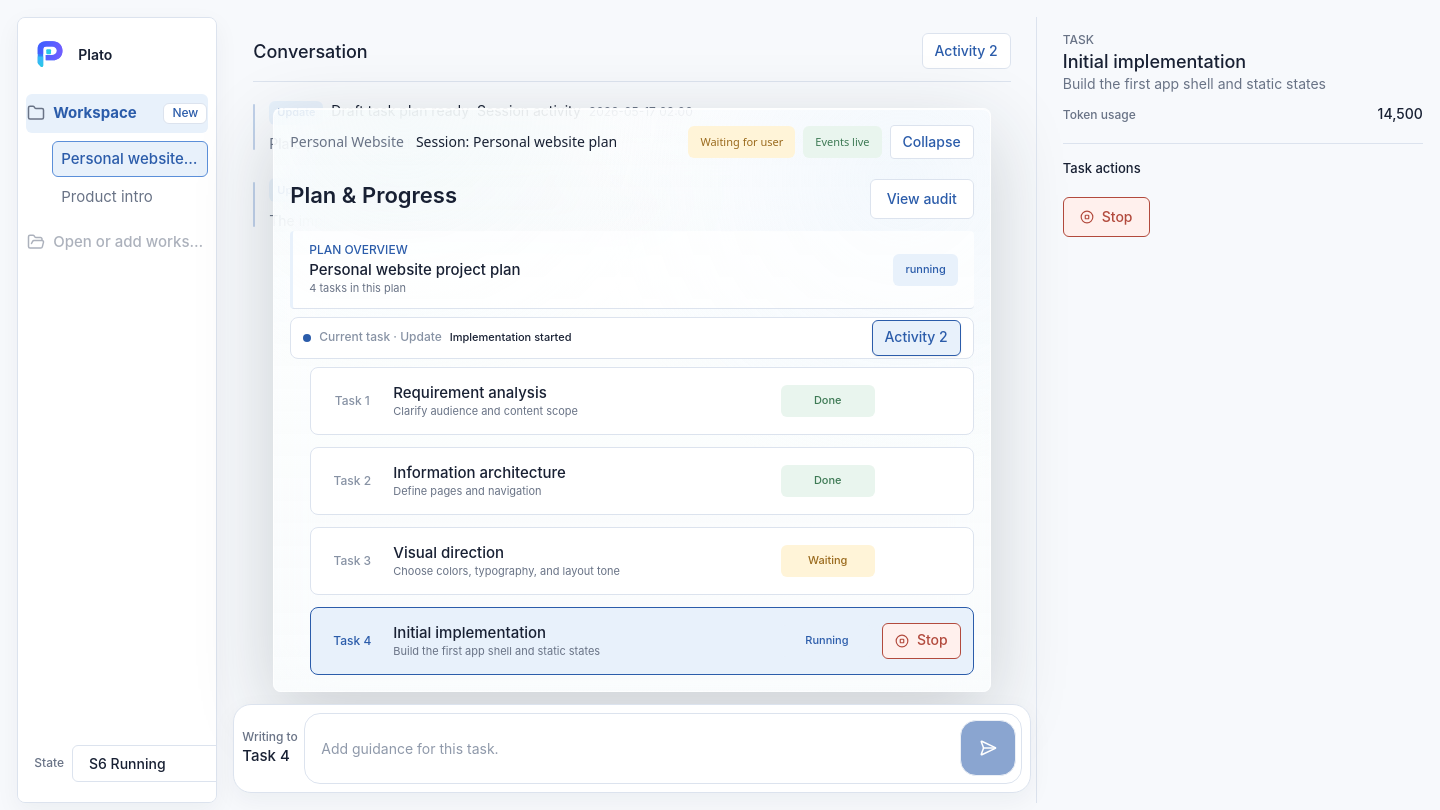
Test: App › projects the latest activity by the selected TaskNode
Expected: the text "Implementation started" next to "Task activity" is shown, x1=331 y1=180 x2=484 y2=197
Click the button "Visual direction": click(352, 560) x1=323 y1=540 x2=875 y2=582
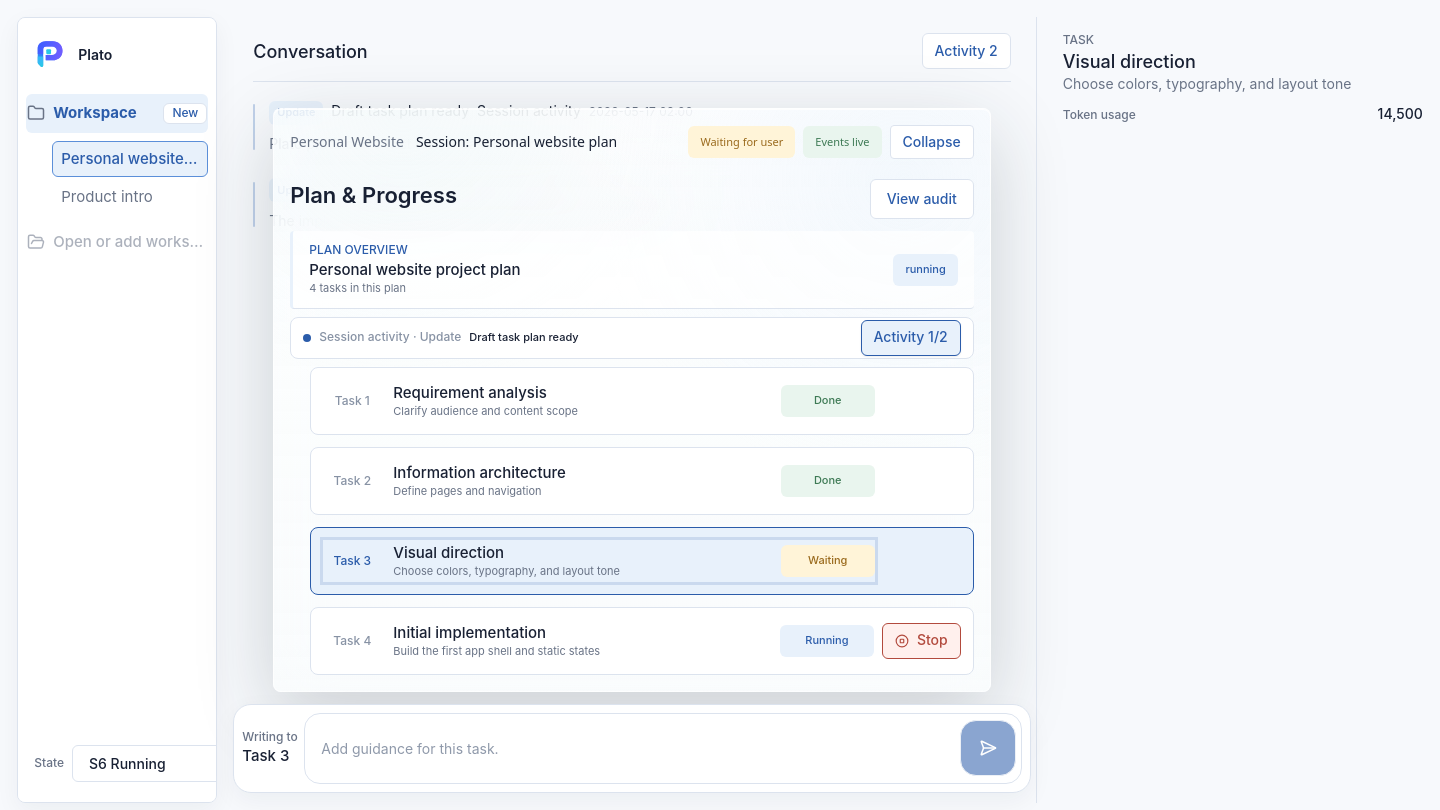
Expected: the element named "Latest activity" does not show "Implementation started", x1=290 y1=317 x2=974 y2=359
Now the element named "Latest activity" shows "Draft task plan ready", box x1=469 y1=330 x2=579 y2=344
Now the button with aria-label "Open task updates (Activity 1/2)" is shown, box x1=860 y1=320 x2=961 y2=356
